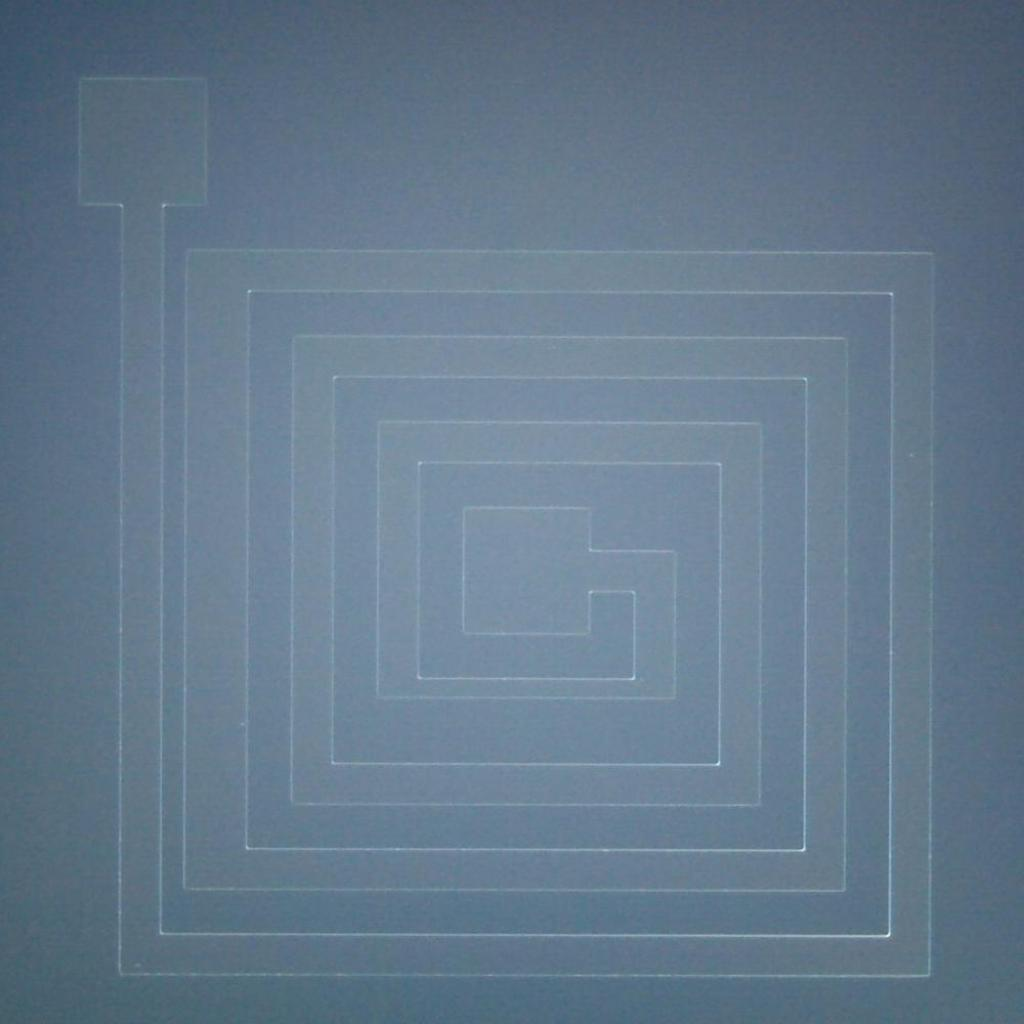dot: (134, 962, 140, 968), (909, 453, 914, 457), (240, 722, 244, 726)
